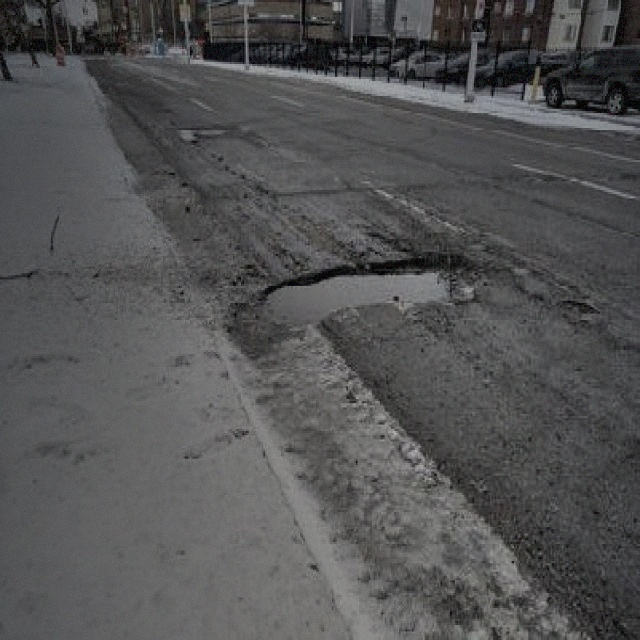pothole: (257, 254, 477, 322)
